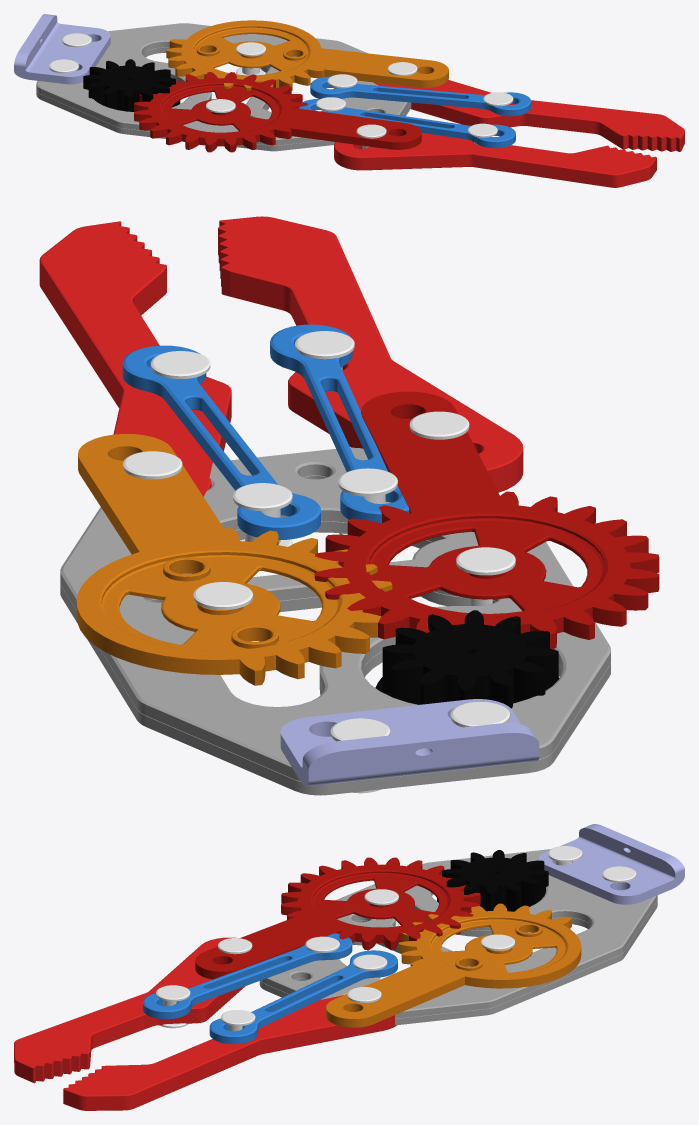
File: RobotGripper5.glb
3 views of the same model, one above another, from view 1: azimuth 30°, elevation 25°; view 2: azimuth 150°, elevation 25°; view 3: azimuth 270°, elevation 25° (orthographic). The views are drawn at different scales.
Visible parts, largest first — view 1: GearlinkRed, GearlinkOrange, Gripper, Plate, Gripper2, Mountingbracket, Gear, Link2, Link, Plate2, pin.001, pin.006 (+8 smaller); view 2: GearlinkRed, GearlinkOrange, Plate, Gripper, Gripper2, Mountingbracket, Gear, Link2, Plate2, Link, pin.005, pin.004 (+8 smaller); view 3: GearlinkOrange, GearlinkRed, Plate, Gripper2, Gripper, Mountingbracket, Gear, Link, Link2, Plate2, pin.008, pin.009 (+8 smaller).
Boxes of the visible parts, box(x1,y1,x2,y2) form: GearlinkRed: box(134, 72, 421, 152); GearlinkOrange: box(166, 20, 448, 90); Gripper: box(334, 133, 656, 187); Plate: box(36, 23, 410, 145); Gripper2: box(373, 80, 684, 151); Mountingbracket: box(14, 14, 110, 84); Gear: box(83, 59, 180, 111); Link2: box(310, 76, 530, 116); Link: box(298, 99, 515, 148); Plate2: box(36, 47, 411, 151); pin.001: box(236, 42, 265, 75); pin.006: box(356, 124, 386, 148); GearlinkRed: box(314, 391, 659, 648); GearlinkOrange: box(76, 434, 392, 685); Plate: box(60, 447, 610, 780); Gripper: box(218, 216, 523, 492); Gripper2: box(39, 221, 231, 496); Mountingbracket: box(280, 699, 539, 786); Gear: box(375, 610, 559, 708); Link2: box(122, 345, 320, 540); Plate2: box(60, 475, 610, 795); Link: box(270, 324, 409, 523); pin.005: box(233, 483, 292, 546); pin.004: box(338, 468, 397, 534); GearlinkOrange: box(326, 903, 581, 1027); GearlinkRed: box(195, 857, 480, 979); Plate: box(261, 849, 657, 1018); Gripper2: box(63, 995, 396, 1110); Gripper: box(14, 937, 245, 1083); Mountingbracket: box(538, 824, 684, 904); Gear: box(437, 850, 548, 911); Link: box(143, 933, 352, 1019); Link2: box(209, 950, 397, 1044); Plate2: box(259, 892, 657, 1025); pin.008: box(156, 985, 190, 1028); pin.009: box(221, 1010, 255, 1031).
Size of the model in its own units: 0.3091 by 0.024 by 0.3462.
